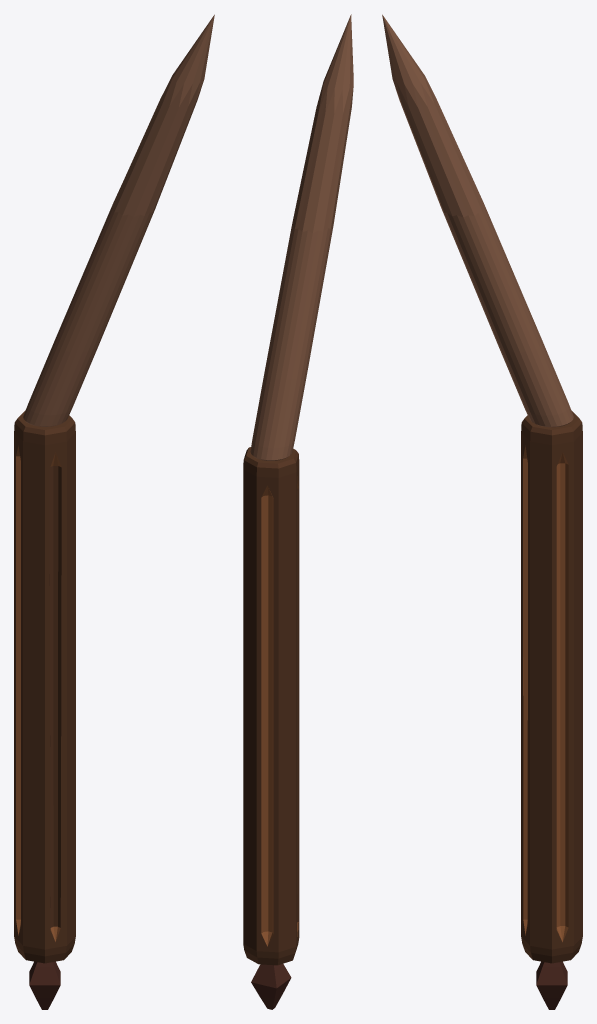
The model's file is Wand 595.glb.
3 renders of one model, left to right at view 1: azimuth 90°, elevation 25°; view 2: azimuth 150°, elevation 25°; view 3: azimuth 270°, elevation 25°, orthographic. The views are drawn at different scales.
Visible parts, largest first — view 1: GeneratedWand; view 2: GeneratedWand; view 3: GeneratedWand.
Part boxes in pixels (bbox=[...]): GeneratedWand: bbox=[14, 14, 214, 1009]; GeneratedWand: bbox=[243, 14, 353, 1009]; GeneratedWand: bbox=[382, 14, 582, 1009].
Size of the model in its own units: 0.0289 by 0.5134 by 0.0939.
